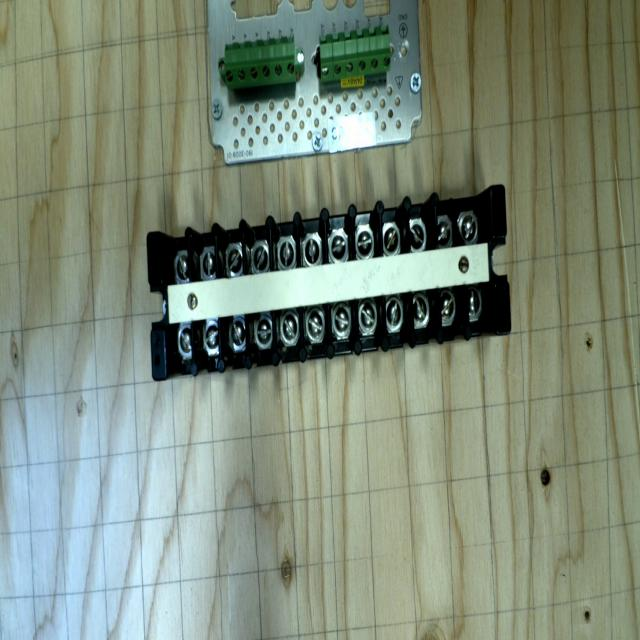Flathead_Block: (134, 186, 523, 380)
Terminal_1: (315, 25, 395, 82), (221, 37, 299, 90)
